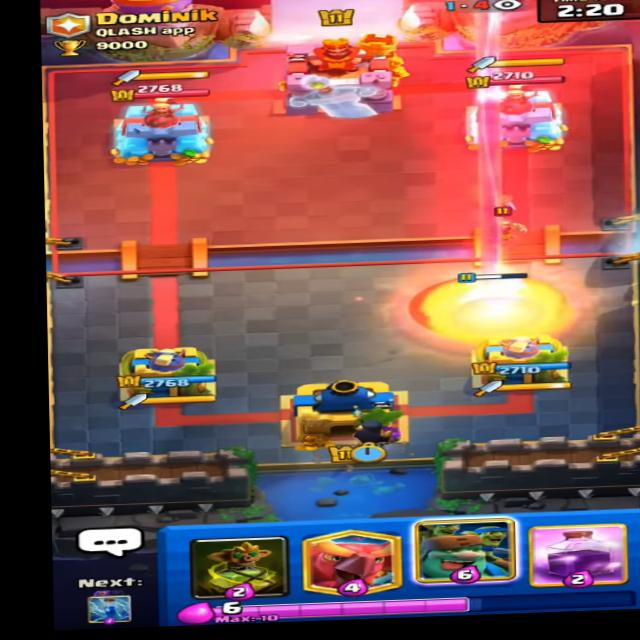void: (409, 264, 569, 343)
wizard: (472, 202, 527, 249)
